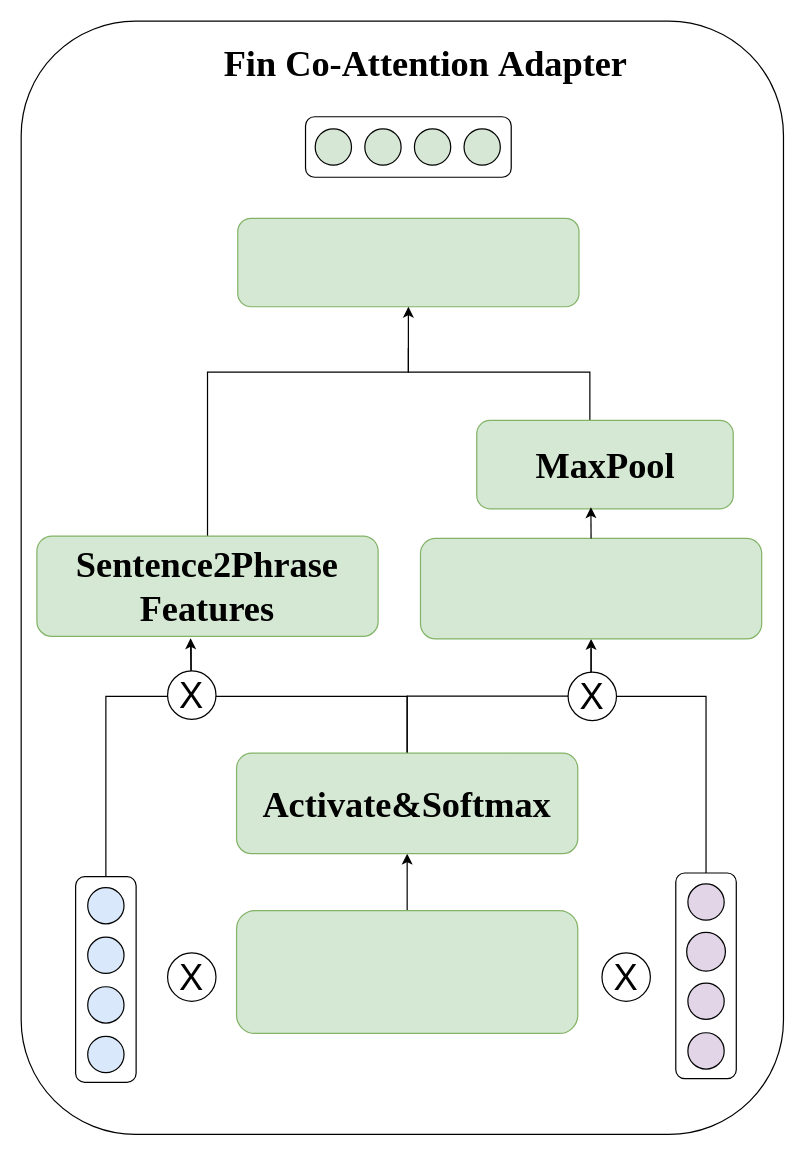
Some shapes in this 805 by 1156 pixel diagram are drawn without their labels. The centre of each missing label's shape, as x and y in pixels:
"Concat" belongs at point 408,262.
"Phrase2Sentence Features" belongs at point 590,588.
"Sentence2 Phrase Phrase2Sentence" belongs at point 406,971.
